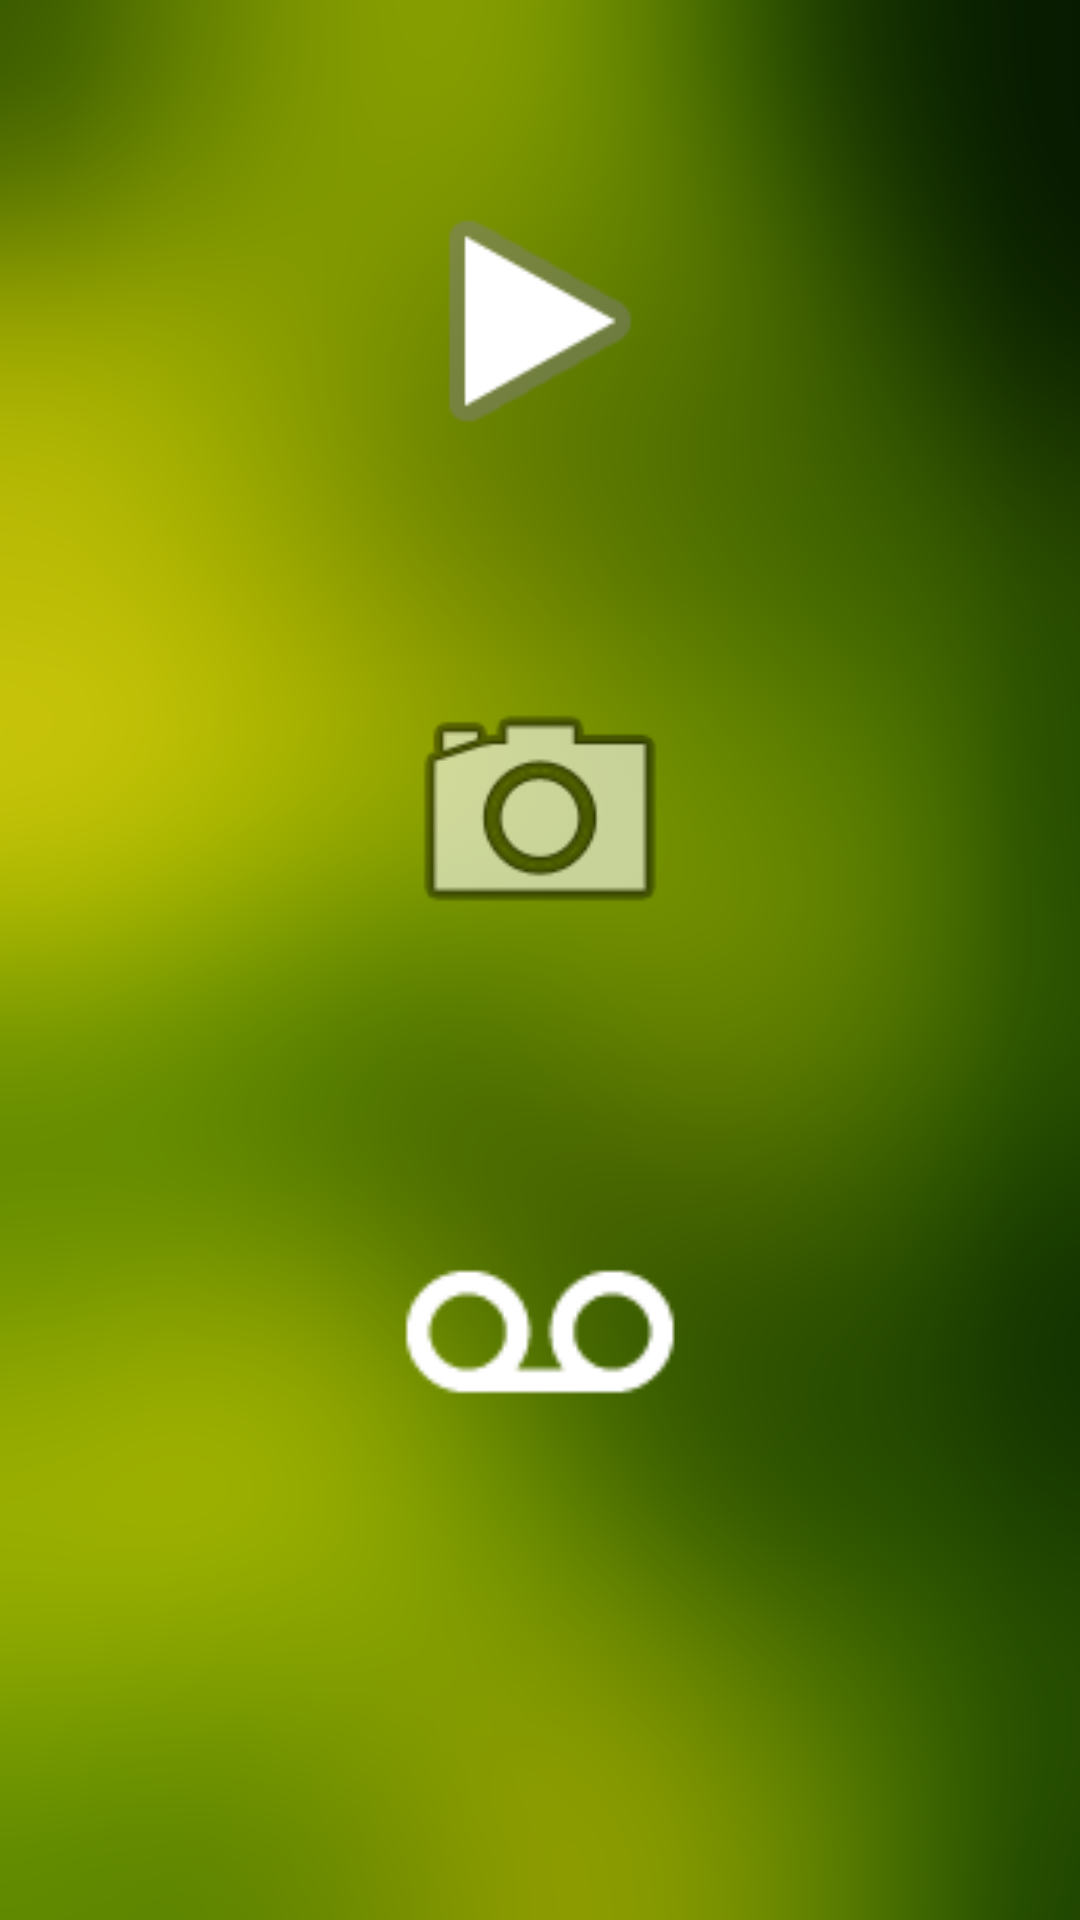

Where to tap for icons on this 1080 × 1920 app screen, as [x,y]:
camera: [540,808]
play: [540,321]
